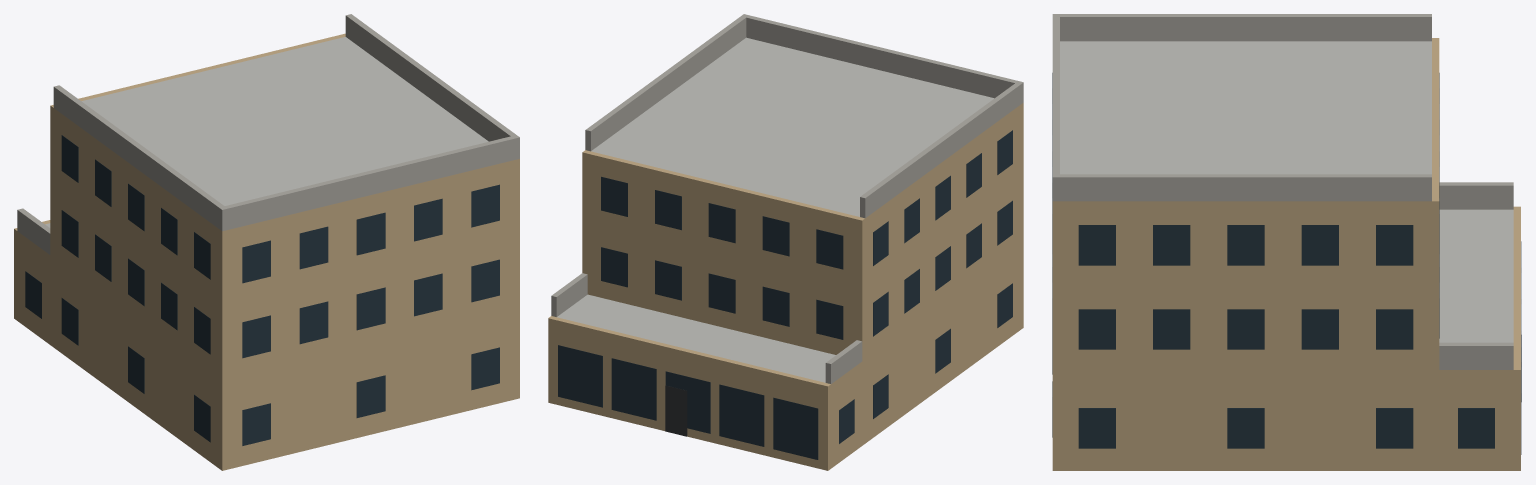
Rendered from bld_t3_midrise_quest.glb.
The picture shows the model from 3 angles, left to right: view 1: azimuth 30°, elevation 25°; view 2: azimuth 150°, elevation 25°; view 3: azimuth 270°, elevation 25°; orthographic projection. The views are drawn at different scales.
Visible parts, largest first — view 1: bld_t3_midrise_quest-col; view 2: bld_t3_midrise_quest-col; view 3: bld_t3_midrise_quest-col.
Boxes of the visible parts, x1,y1,x2,y2 form: bld_t3_midrise_quest-col: (14, 14, 519, 470); bld_t3_midrise_quest-col: (548, 14, 1023, 470); bld_t3_midrise_quest-col: (1052, 14, 1521, 470).
Size of the model in its own units: 15.62 by 13.07 by 18.93.
